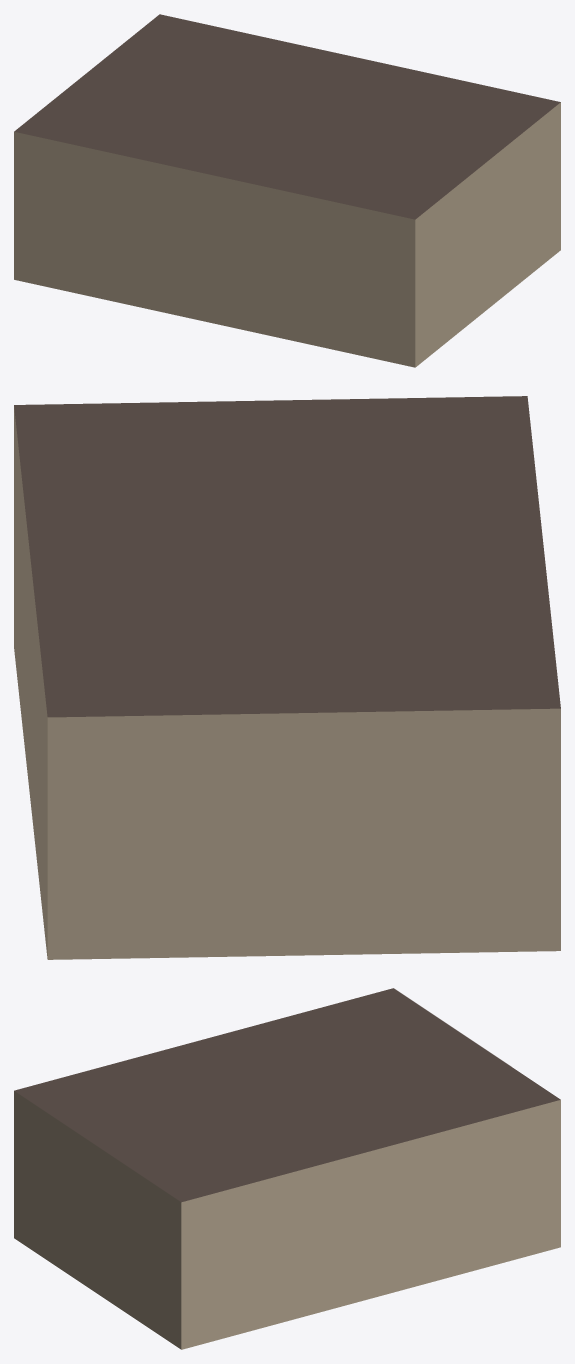
The picture shows the model from 3 angles, top to bottom: view 1: azimuth 30°, elevation 25°; view 2: azimuth 150°, elevation 25°; view 3: azimuth 270°, elevation 25°; orthographic projection. The views are drawn at different scales.
Visible parts, largest first — view 1: HP-w859457343; view 2: HP-w859457343; view 3: HP-w859457343.
Boxes of the visible parts, <box> form: HP-w859457343: <box>14,14,560,367</box>; HP-w859457343: <box>14,396,560,959</box>; HP-w859457343: <box>14,988,560,1349</box>.
Size of the model in its own units: 28.02 by 9 by 30.24.
